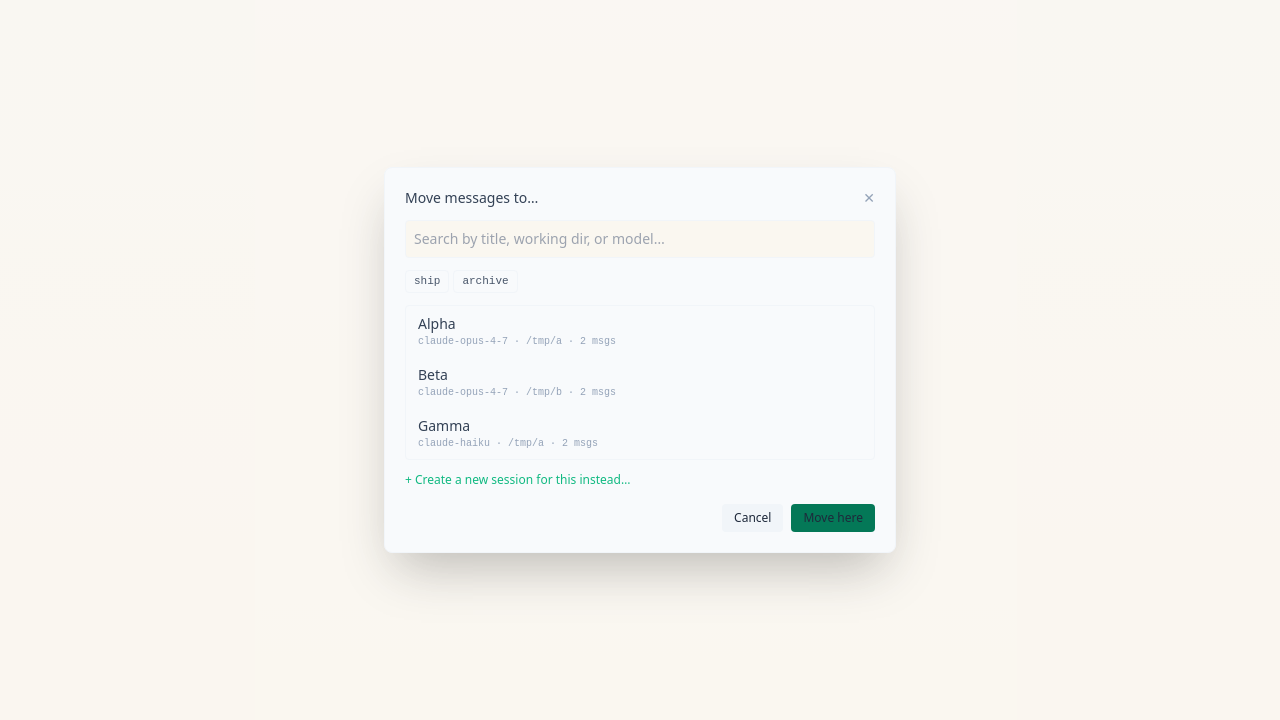
Test: SessionPickerModal › inline create requires title and at least one tag
Click the button with test id "picker-create-toggle" at (518, 480), box [405, 472, 630, 488]
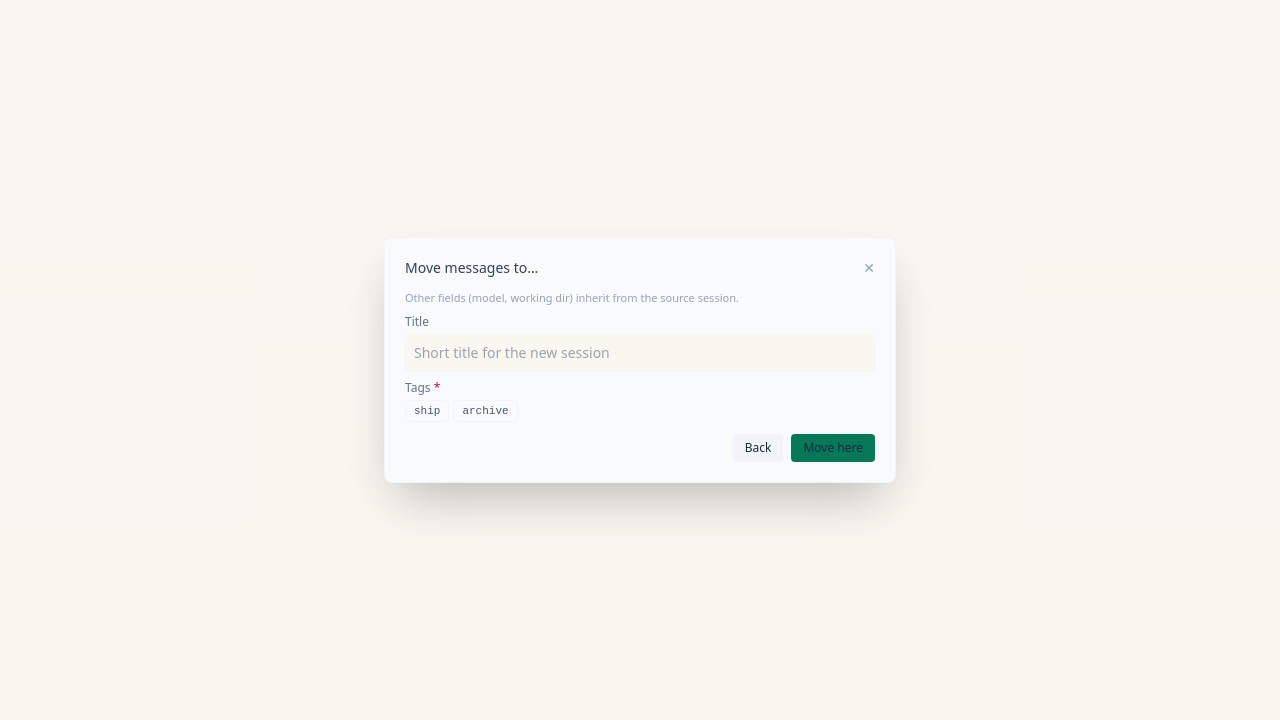
# Click confirm with no title — should NOT fire, should show error.
Click the button with test id "picker-new-confirm" at (833, 448), box [791, 434, 875, 462]
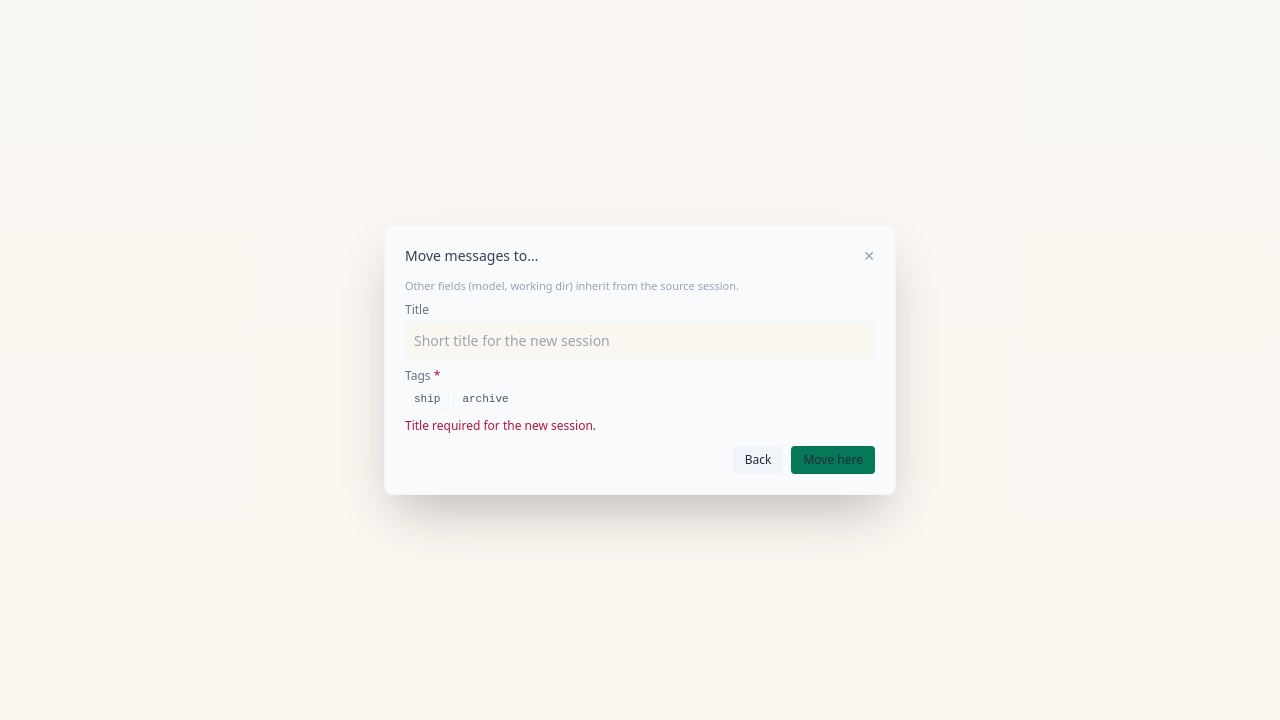
Expected: the text "Title required for the new session." is shown, [405, 417, 596, 434]
Type "Fresh session" into the field with test id "picker-new-title" at (640, 341), box [405, 322, 875, 360]
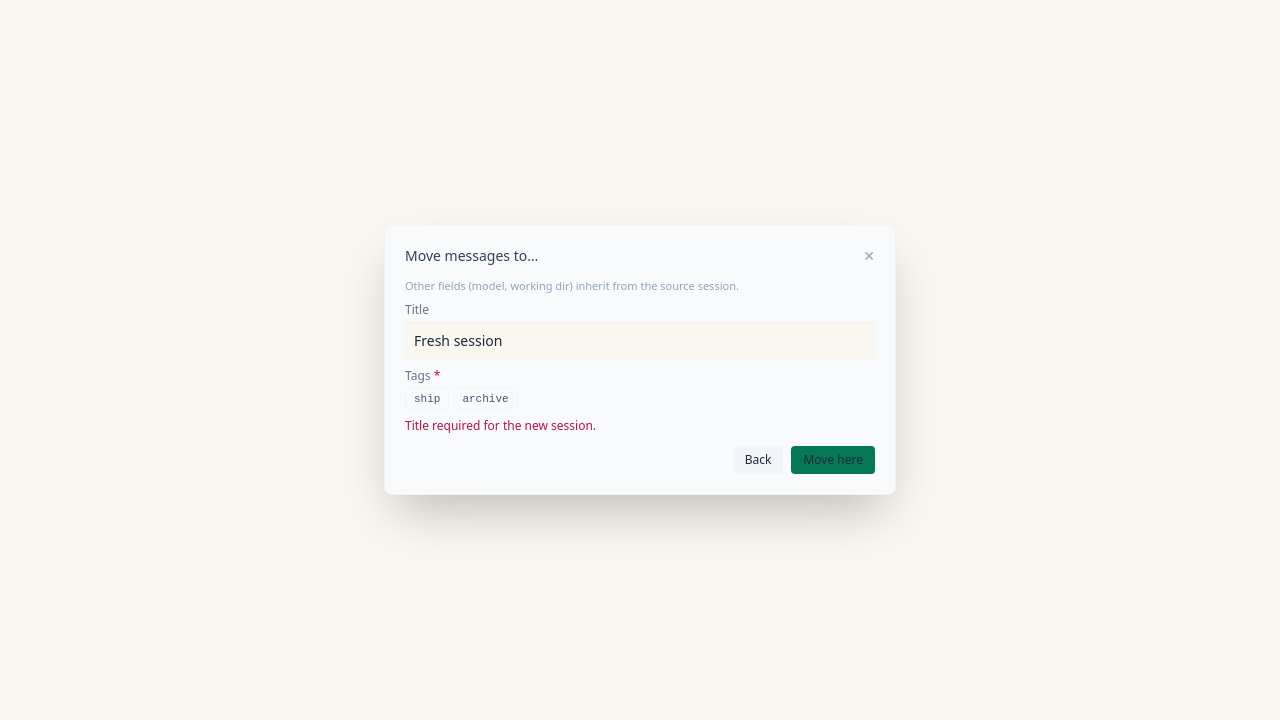
# Still no tag — should fail with a different message.
Click the button with test id "picker-new-confirm" at (833, 460), box [791, 446, 875, 474]
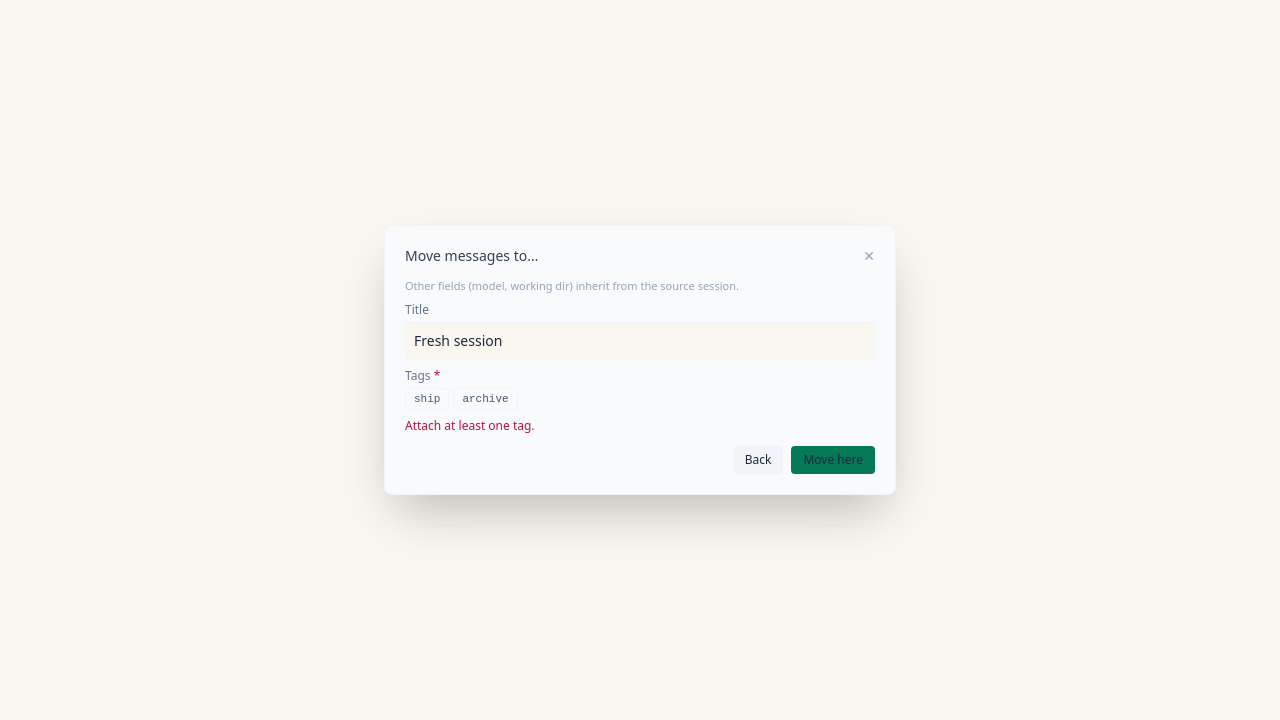
Expected: the text "Attach at least one tag." is shown, [405, 417, 535, 434]
